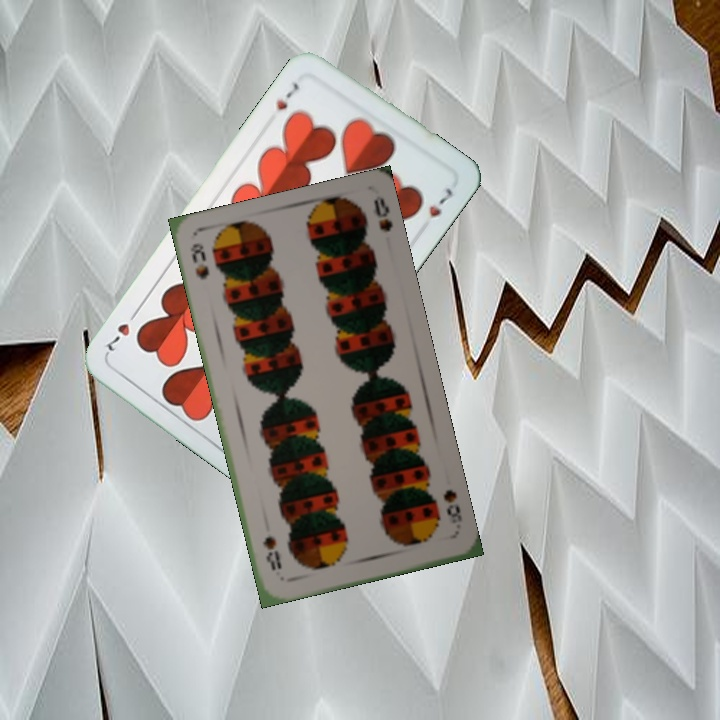H7: (272, 78, 303, 113)
S8: (186, 239, 212, 283), (439, 485, 465, 526)
